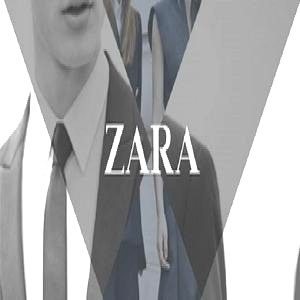zara: (154, 54, 253, 162)
